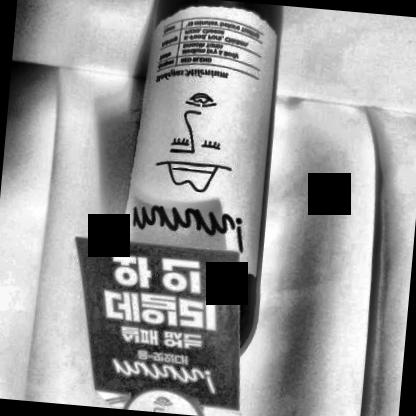umm: (125, 0, 280, 254)
